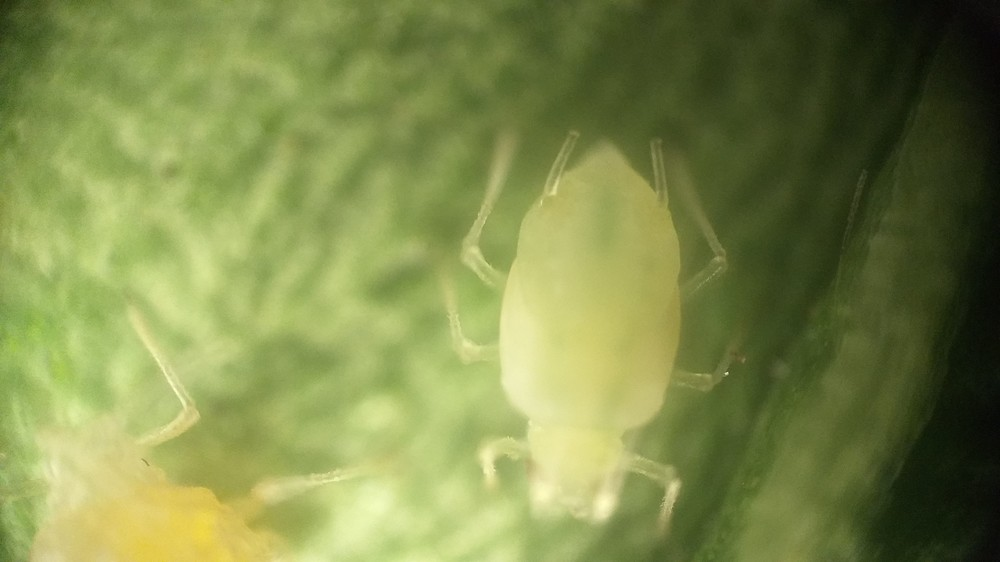Pulgon: (389, 112, 770, 552)
